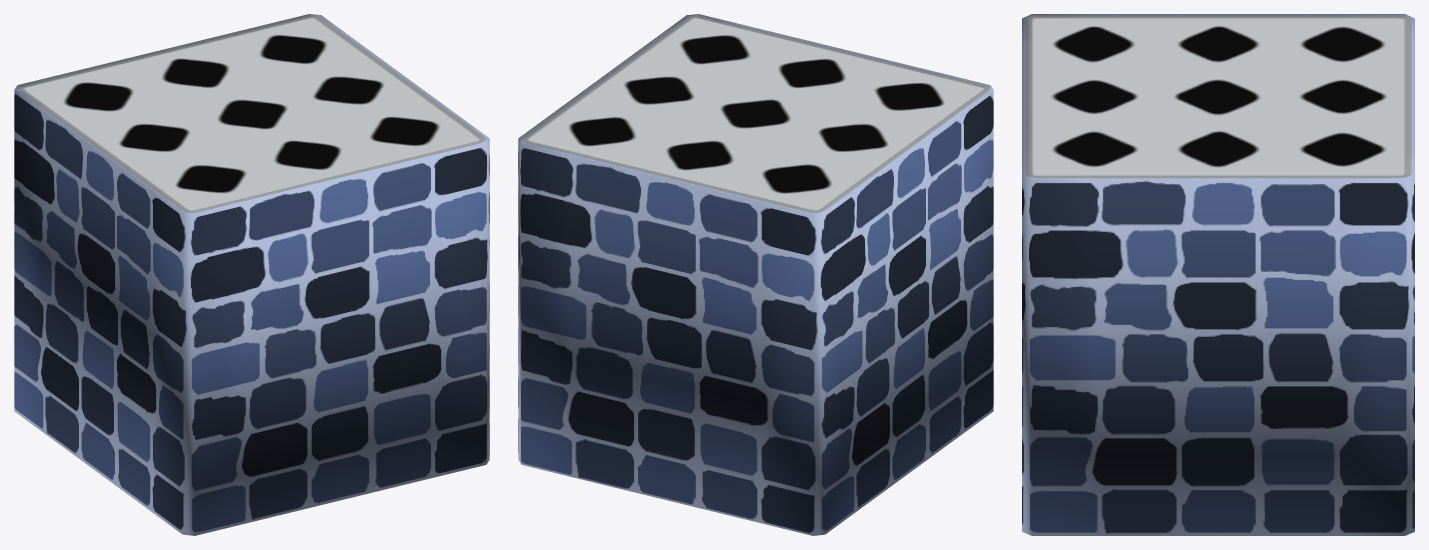
Rendered from hazard_block_-_block.obj.
3 renders of one model, left to right at view 1: azimuth 30°, elevation 25°; view 2: azimuth 150°, elevation 25°; view 3: azimuth 270°, elevation 25°, orthographic. The views are drawn at different scales.
Visible parts, largest first — view 1: Hazard_Block; view 2: Hazard_Block; view 3: Hazard_Block.
Part boxes in pixels (x1,y1,x2,y2): Hazard_Block: [14, 14, 489, 535]; Hazard_Block: [518, 14, 993, 535]; Hazard_Block: [1022, 14, 1414, 535].
Size of the model in its own units: 2 by 2 by 2.
Materials: 1 (1 with a texture image).
